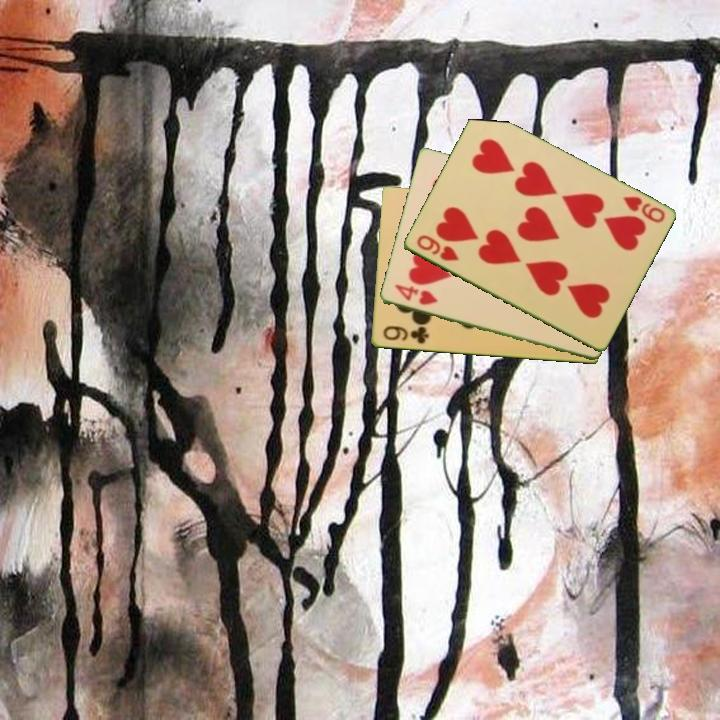4h: (391, 281, 440, 308)
9c: (379, 323, 432, 347)
9h: (412, 231, 462, 264), (619, 193, 667, 226)
